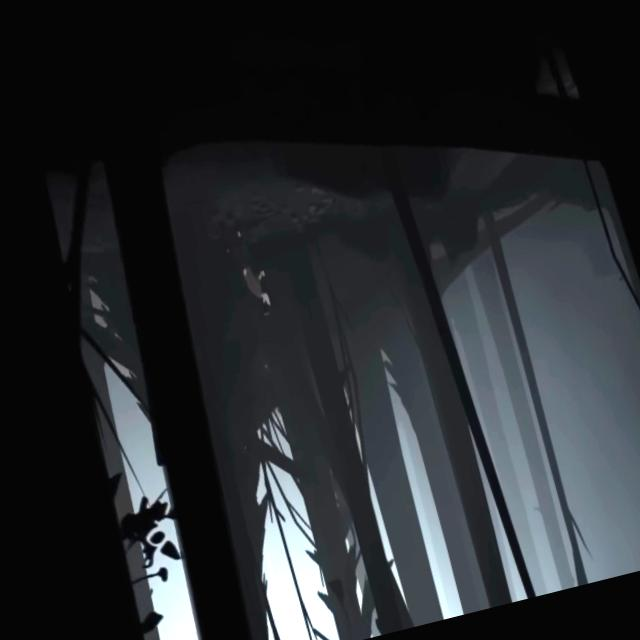boy: (220, 222, 274, 320)
